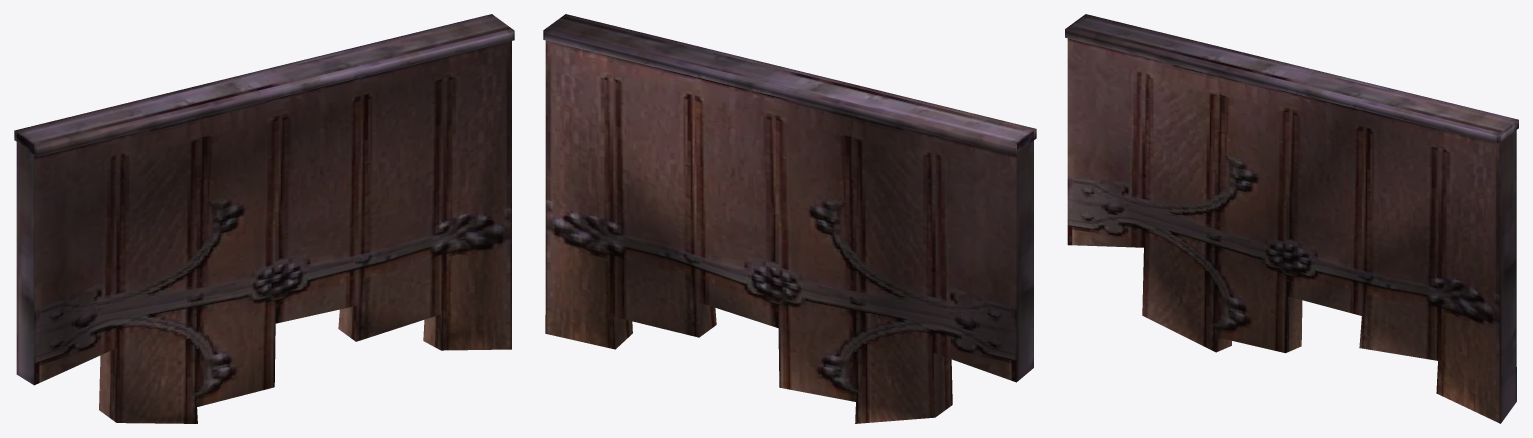
The model's file is KM_BROKEN_DOOR_03.glb.
The picture shows the model from 3 angles, left to right: view 1: azimuth 30°, elevation 25°; view 2: azimuth 150°, elevation 25°; view 3: azimuth 330°, elevation 25°; orthographic projection. The views are drawn at different scales.
Parts seen in each view (by area): view 1: Mesh; view 2: Mesh; view 3: Mesh.
Part boxes in pixels (x1,y1,x2,y2): Mesh: (14, 14, 514, 423); Mesh: (543, 14, 1036, 423); Mesh: (1065, 14, 1518, 423).
Size of the model in its own units: 1.6 by 1.04 by 0.1324.
1 material, 1 textured.
